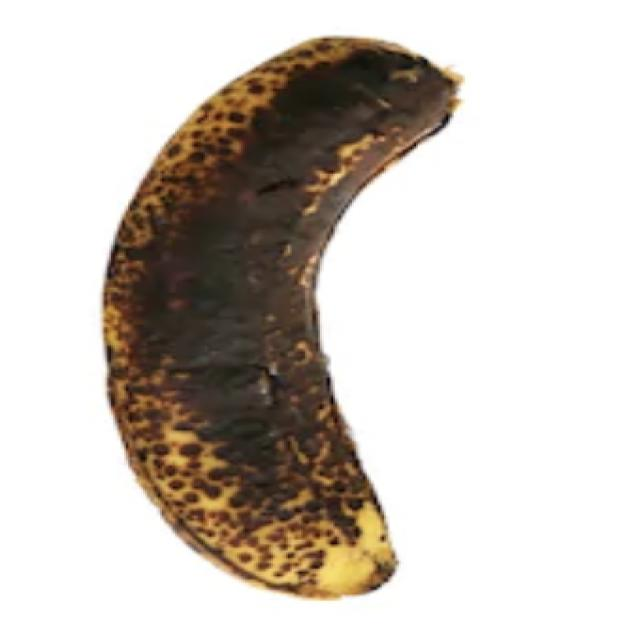rotten-banana: (98, 39, 458, 593)
